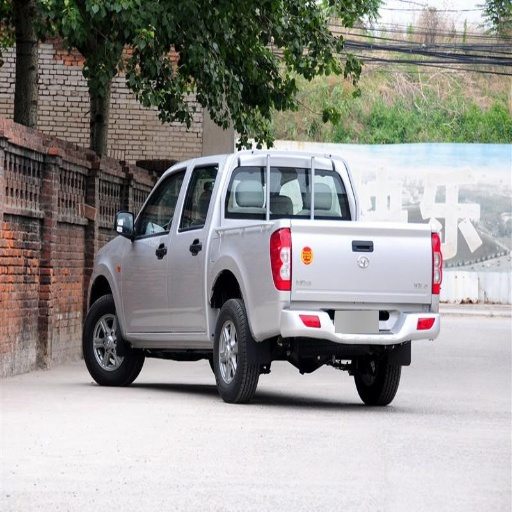back_bumper: (280, 304, 436, 344)
back_left_door: (171, 180, 206, 330)
trunk: (195, 221, 428, 338)
